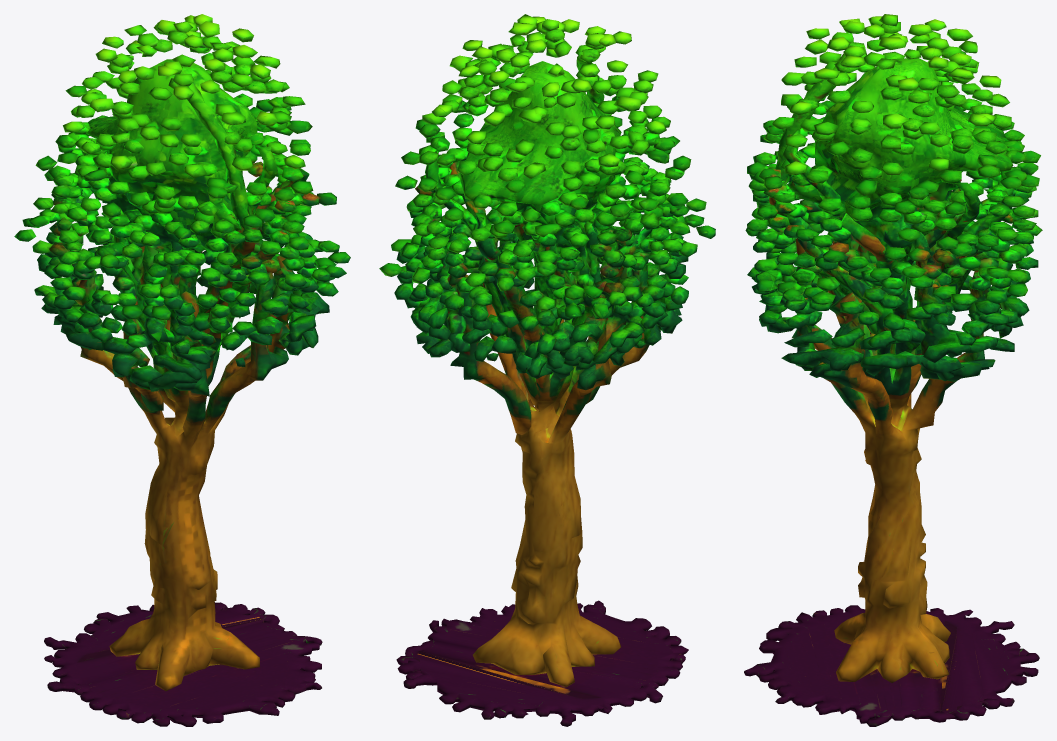
File: emerald_canopy_1.glb
The picture shows the model from 3 angles, left to right: view 1: azimuth 30°, elevation 25°; view 2: azimuth 150°, elevation 25°; view 3: azimuth 270°, elevation 25°; orthographic projection.
Size of the model in its own units: 0.7789 by 1.9 by 0.7906.
Materials: 1 (1 with a texture image).
